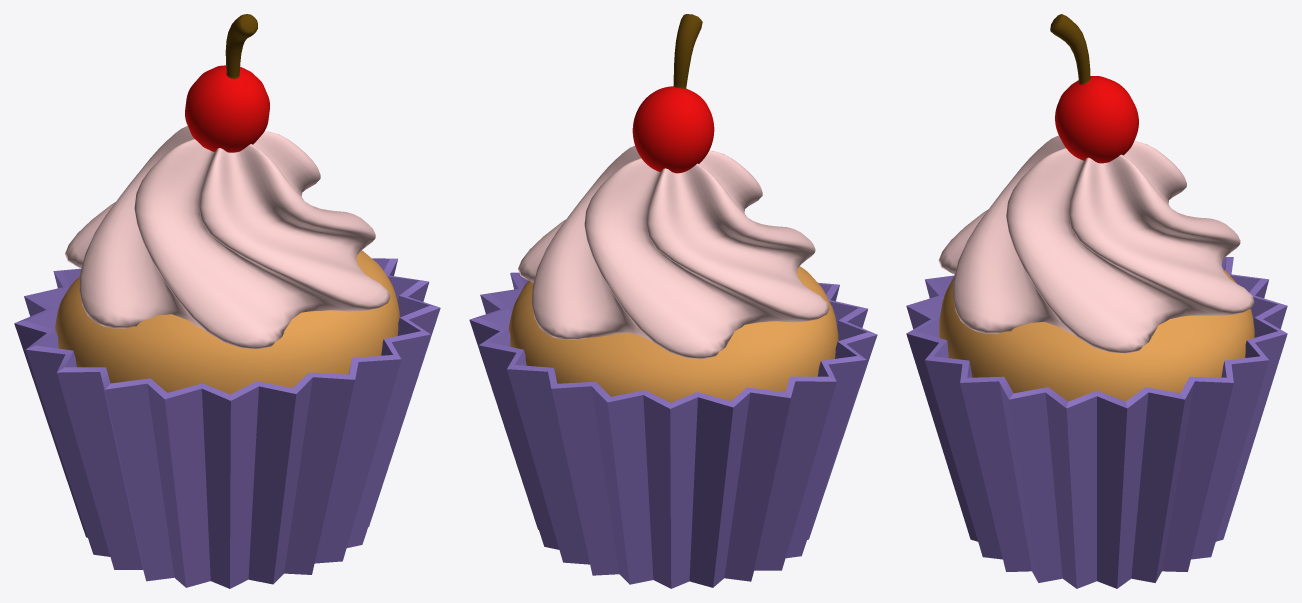
File: cupcake.glb
3 views of the same model, side by side, from view 1: azimuth 30°, elevation 25°; view 2: azimuth 150°, elevation 25°; view 3: azimuth 270°, elevation 25° (orthographic). The views are drawn at different scales.
Parts seen in each view (by area): view 1: pCylinder1, pCone2, pSphere1, pSphere2; view 2: pCylinder1, pCone2, pSphere1, pSphere2; view 3: pCylinder1, pCone2, pSphere1, pSphere2.
Part boxes in pixels (bbox=[...]): pCylinder1: bbox=[14, 258, 440, 588]; pCone2: bbox=[65, 126, 390, 348]; pSphere1: bbox=[55, 250, 399, 394]; pSphere2: bbox=[185, 14, 269, 152]; pCylinder1: bbox=[469, 272, 877, 588]; pCone2: bbox=[518, 146, 829, 358]; pSphere1: bbox=[508, 266, 838, 402]; pSphere2: bbox=[632, 14, 714, 173]; pCylinder1: bbox=[906, 257, 1287, 588]; pCone2: bbox=[938, 135, 1254, 353]; pSphere1: bbox=[939, 269, 1254, 401]; pSphere2: bbox=[1050, 14, 1138, 163].
Bounding box in the file's own units: 0.0504 × 0.0686 × 0.046.
